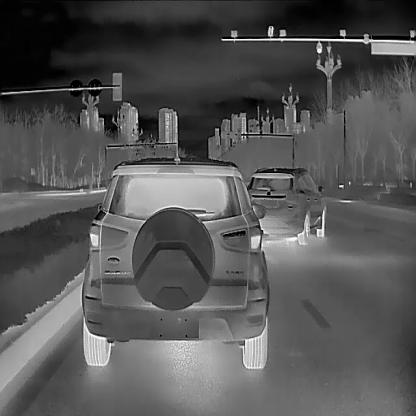car: (81, 156, 269, 368), (247, 164, 326, 245)
